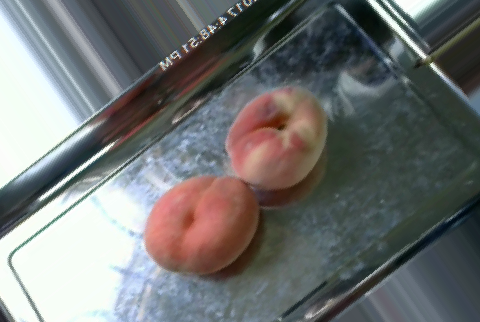Peach: (144, 174, 258, 275), (225, 86, 326, 190)
